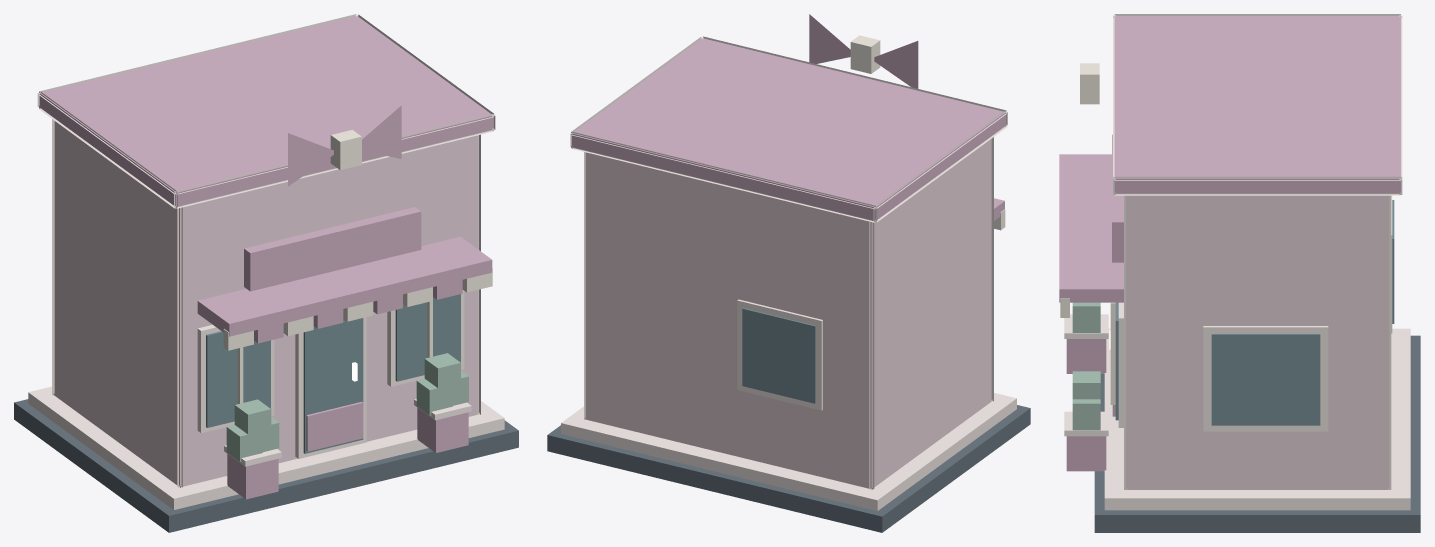
File: glb-concept.glb
The picture shows the model from 3 angles, left to right: view 1: azimuth 30°, elevation 25°; view 2: azimuth 150°, elevation 25°; view 3: azimuth 270°, elevation 25°; orthographic projection. The views are drawn at different scales.
Parts seen in each view (by area): view 1: 02 Cute Concept Cafe; view 2: 02 Cute Concept Cafe; view 3: 02 Cute Concept Cafe.
Part boxes in pixels (x1,y1,x2,y2): 02 Cute Concept Cafe: (14, 14, 518, 532); 02 Cute Concept Cafe: (547, 14, 1030, 532); 02 Cute Concept Cafe: (1059, 14, 1420, 532).
Bounding box in the file's own units: 2.58 × 2.62 × 2.2.
